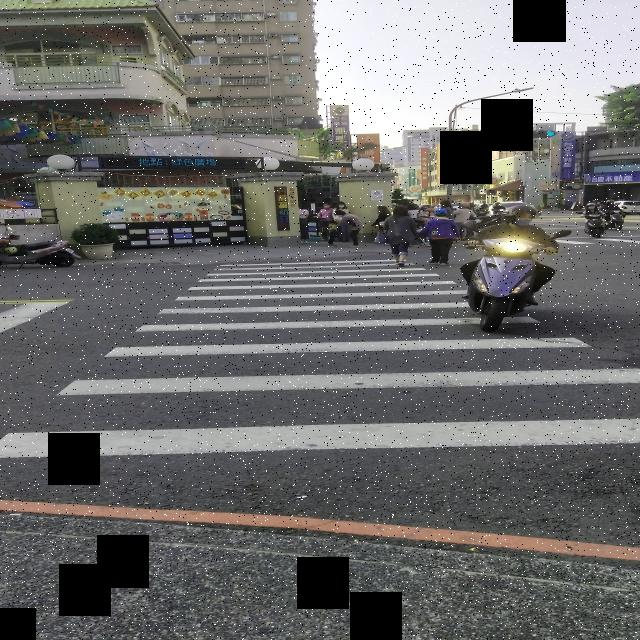zebra_crossing: (0, 260, 640, 462), (464, 205, 558, 255), (382, 206, 420, 266), (420, 209, 460, 265), (333, 210, 364, 246), (531, 262, 556, 292), (460, 260, 480, 284)
